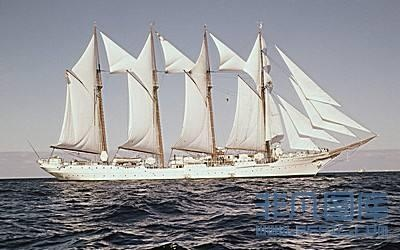fanchuan: (27, 17, 380, 182)
